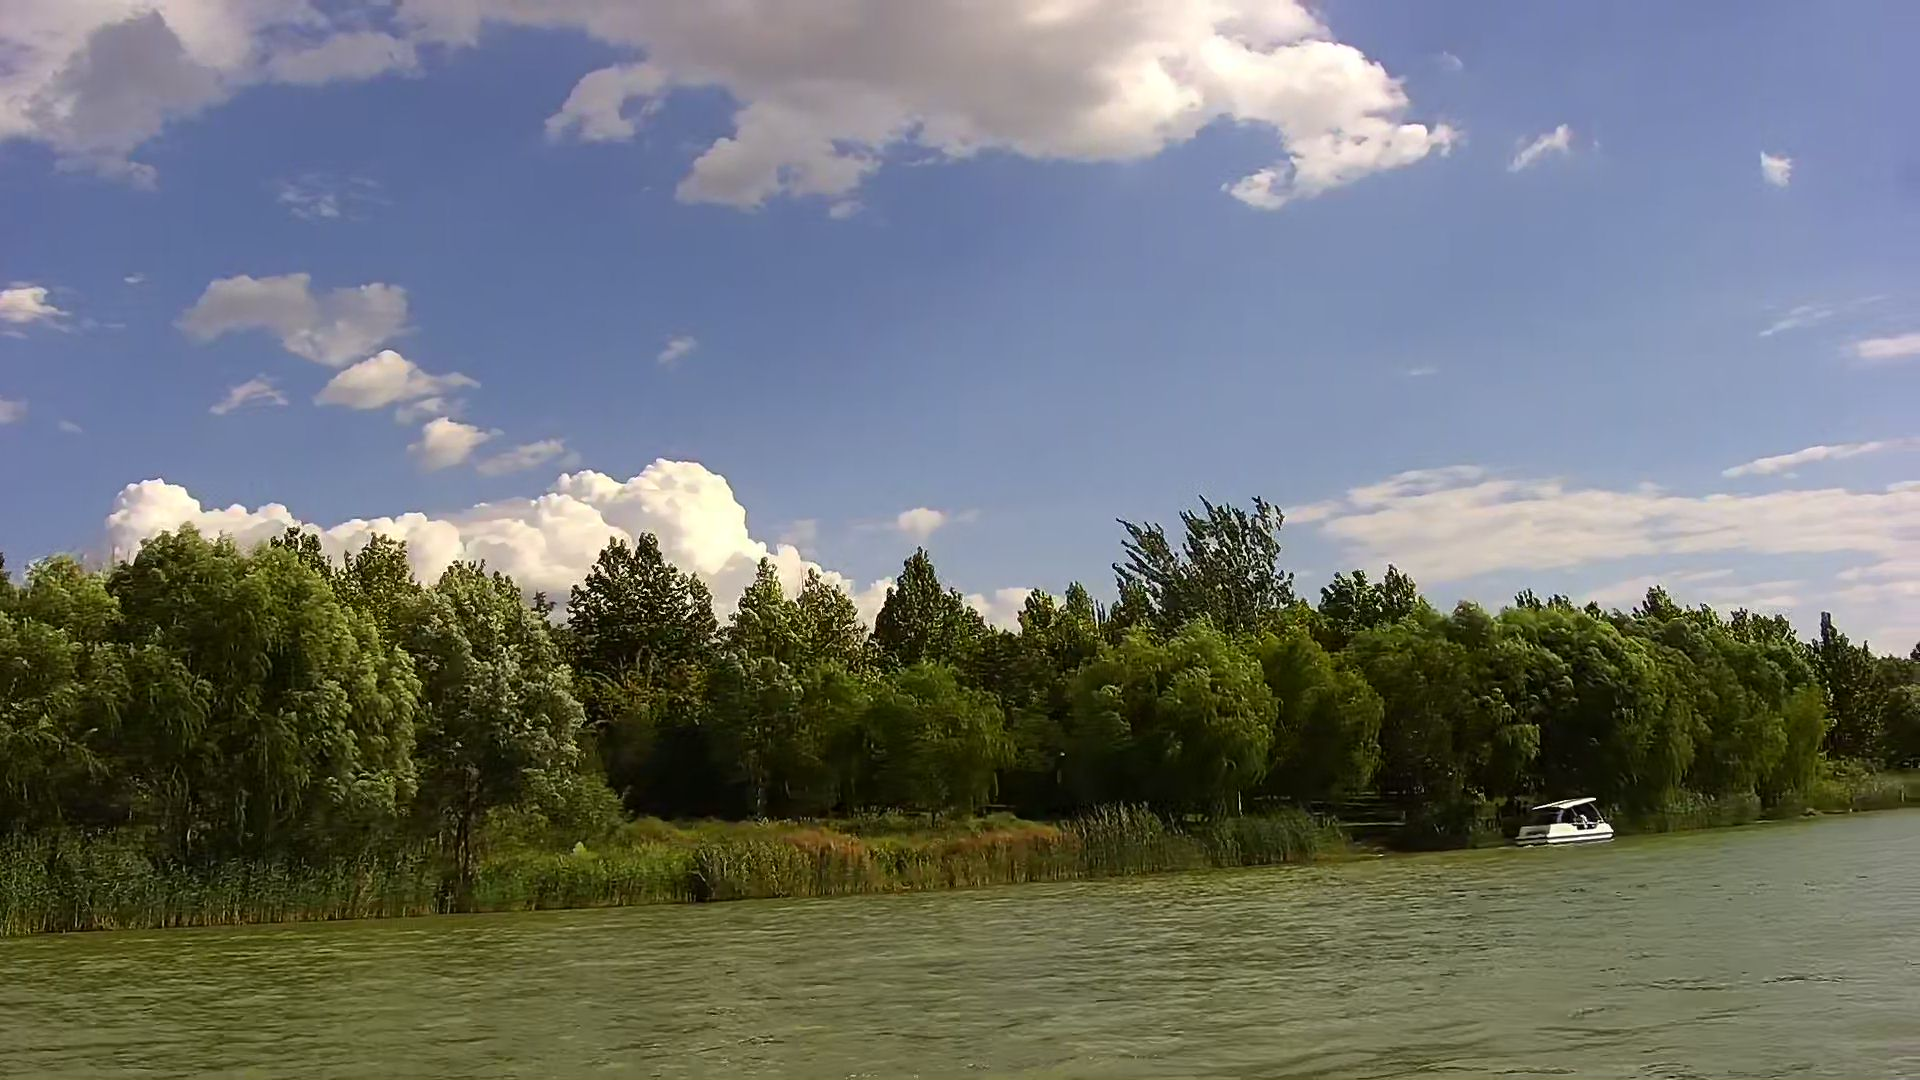boat: (1516, 796, 1611, 848)
